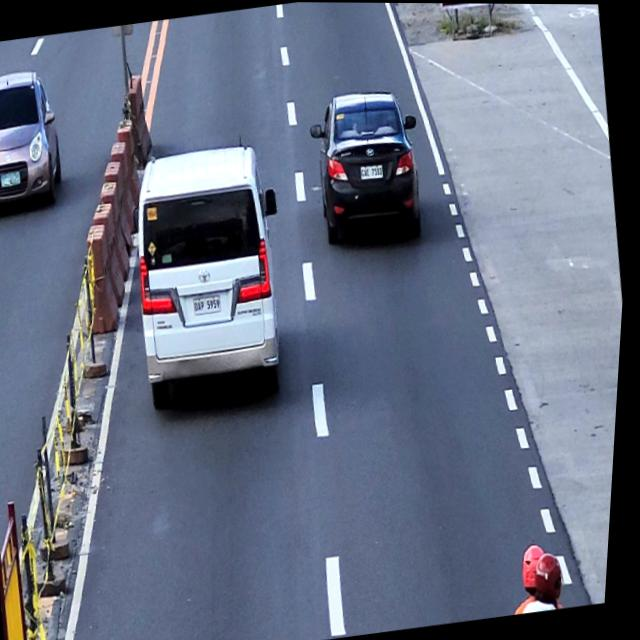Car: (119, 137, 309, 409), (301, 82, 435, 249), (0, 66, 73, 219)
License-Plate: (195, 293, 226, 316), (362, 163, 387, 181), (2, 171, 24, 189)
